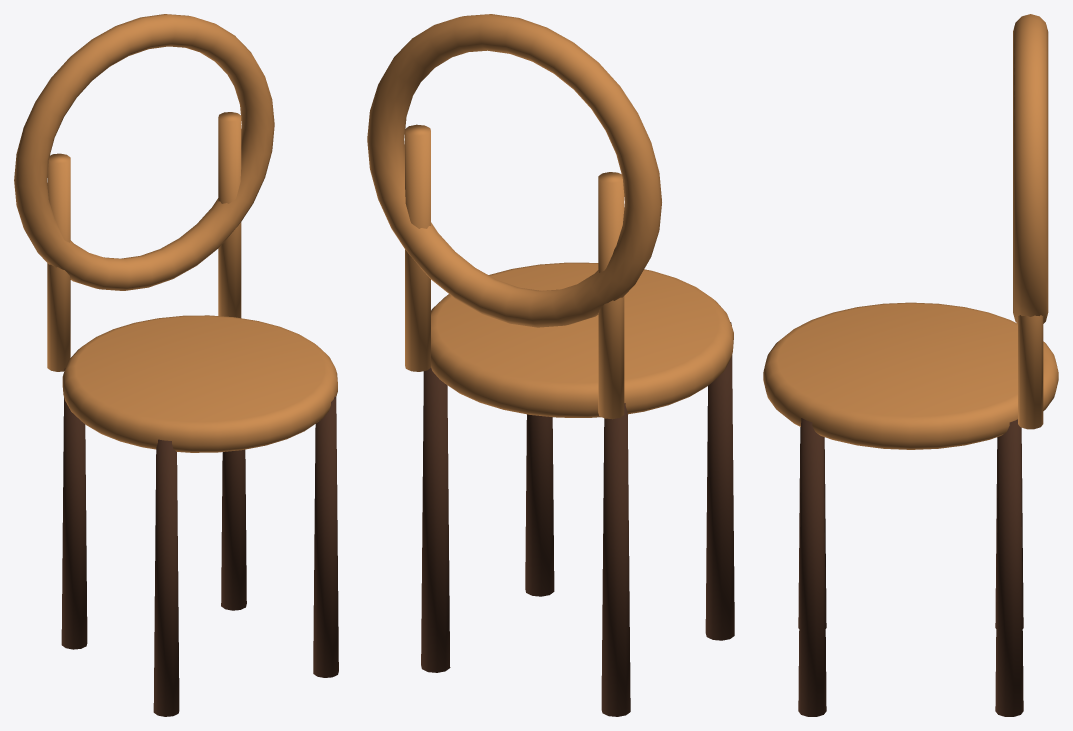
Rendered from chaise.glb.
3 views of the same model, side by side, from view 1: azimuth 30°, elevation 25°; view 2: azimuth 150°, elevation 25°; view 3: azimuth 270°, elevation 25° (orthographic). The views are drawn at different scales.
Parts seen in each view (by area): view 1: assise, dossier, pied0, pied1, pied2, montant_g, montant_d, pied3; view 2: dossier, assise, pied2, pied3, pied0, montant_d, montant_g, pied1; view 3: assise, dossier, pied1, pied3, montant_d, pied0, pied2.
Boxes of the visible parts, <box> form: assise: <box>62,315,337,452</box>; dossier: <box>14,14,274,290</box>; pied0: <box>153,439,179,716</box>; pied1: <box>313,396,338,677</box>; pied2: <box>61,368,87,649</box>; montant_g: <box>47,153,70,371</box>; montant_d: <box>218,112,241,318</box>; pied3: <box>221,449,246,610</box>; dossier: <box>367,14,661,327</box>; assise: <box>431,262,733,417</box>; pied2: <box>601,403,630,716</box>; pied3: <box>421,368,450,672</box>; pied0: <box>705,322,734,640</box>; montant_d: <box>405,124,430,371</box>; montant_g: <box>598,172,624,419</box>; pied1: <box>525,414,554,596</box>; assise: <box>763,302,1058,449</box>; dossier: <box>1013,14,1048,323</box>; pied1: <box>798,418,826,716</box>; pied3: <box>995,419,1023,716</box>; montant_d: <box>1018,315,1043,429</box>; pied0: <box>798,427,826,628</box>; pied2: <box>995,427,1023,628</box>.
Size of the model in its own units: 0.45 by 1 by 0.42.
